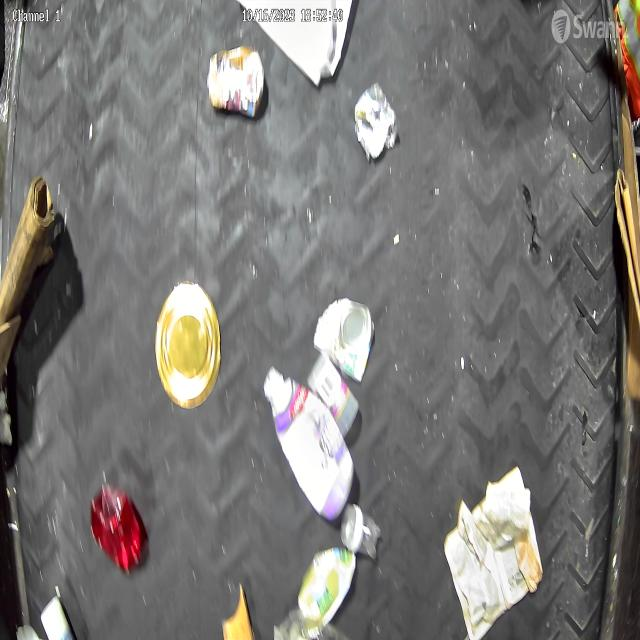can: (155, 281, 221, 409), (312, 297, 376, 383), (207, 47, 264, 117)
